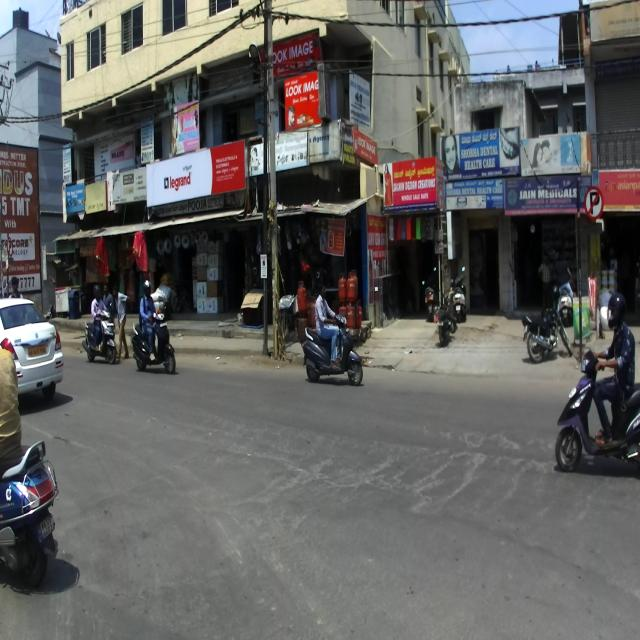electric pole ahead at: (249, 0, 285, 361)
motorcycle ahead at: (554, 342, 640, 483), (0, 441, 62, 599), (301, 309, 368, 389)
